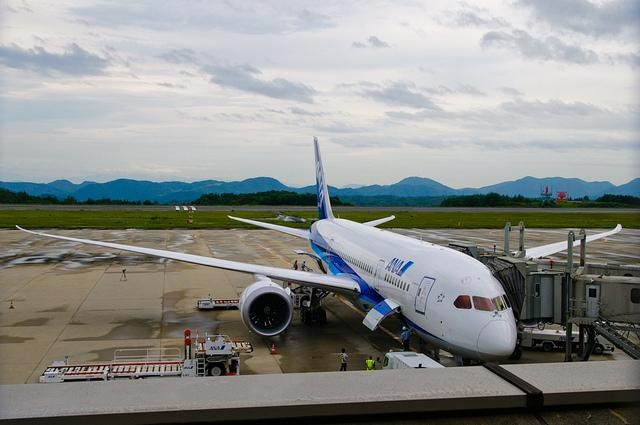airplane: (10, 134, 624, 359)
